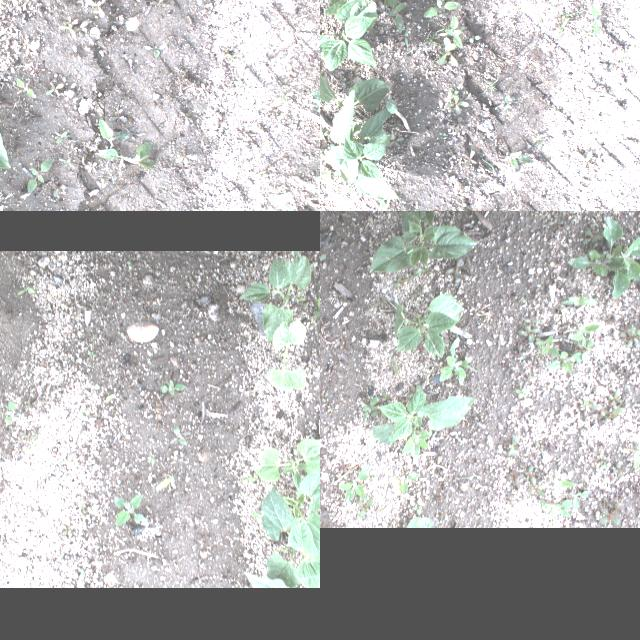crop: (324, 90, 404, 204), (242, 486, 320, 587), (238, 250, 310, 342), (372, 384, 476, 444), (368, 222, 476, 272), (393, 292, 461, 360), (320, 0, 377, 70), (281, 466, 320, 559), (253, 439, 320, 491), (320, 70, 388, 112), (267, 318, 305, 392), (391, 211, 457, 231), (323, 0, 387, 14), (406, 517, 434, 527)
weed: (565, 216, 640, 298), (94, 140, 160, 174), (438, 336, 476, 384), (95, 118, 142, 146), (295, 155, 320, 203), (52, 11, 94, 39), (403, 28, 445, 56), (290, 172, 320, 211), (114, 494, 148, 528), (339, 466, 369, 504), (401, 418, 429, 458), (26, 154, 52, 194), (274, 72, 302, 104), (540, 470, 574, 496), (12, 76, 38, 106), (498, 150, 534, 170), (507, 466, 538, 489), (546, 352, 580, 372), (174, 150, 202, 174), (474, 70, 498, 98), (540, 497, 570, 519), (443, 15, 462, 49), (560, 490, 592, 510), (422, 0, 459, 17), (140, 42, 168, 64), (570, 324, 598, 346), (385, 0, 403, 33), (437, 38, 458, 66), (190, 82, 214, 106), (557, 8, 585, 28), (42, 78, 68, 99), (176, 104, 197, 130), (224, 80, 258, 96), (389, 474, 416, 494), (534, 334, 558, 356), (250, 167, 276, 187), (442, 95, 468, 115), (46, 177, 68, 200), (3, 400, 24, 424), (82, 0, 108, 19), (218, 48, 240, 70), (598, 504, 620, 526), (621, 323, 640, 347), (160, 380, 188, 396), (50, 128, 70, 150), (57, 152, 77, 174), (64, 45, 86, 65), (572, 152, 594, 172), (481, 159, 507, 175), (517, 325, 539, 343), (590, 4, 602, 36), (362, 397, 378, 421), (110, 108, 132, 125), (530, 131, 550, 149), (445, 258, 463, 278), (582, 228, 604, 244), (356, 498, 372, 518), (577, 340, 593, 360), (527, 478, 543, 497), (153, 476, 174, 490), (84, 157, 100, 175), (302, 50, 320, 66), (496, 95, 514, 111), (386, 132, 404, 148), (560, 297, 596, 305), (64, 143, 84, 157), (585, 27, 599, 47), (311, 293, 320, 324), (588, 402, 604, 418), (174, 425, 186, 445), (603, 408, 623, 420), (608, 390, 622, 406), (378, 198, 395, 211), (508, 435, 518, 457), (93, 178, 111, 190), (464, 150, 476, 168), (216, 114, 228, 130), (451, 117, 463, 133), (612, 462, 624, 478), (633, 444, 640, 470), (143, 0, 164, 8), (384, 0, 402, 9), (523, 317, 539, 327), (320, 128, 328, 147), (16, 286, 34, 294), (413, 268, 431, 276), (557, 22, 567, 36), (548, 218, 562, 228), (0, 46, 8, 62), (0, 13, 8, 29), (314, 37, 320, 57), (78, 568, 84, 588), (77, 408, 87, 420), (394, 278, 406, 288), (454, 272, 466, 282), (516, 388, 528, 398), (467, 35, 481, 43), (372, 298, 386, 306), (447, 89, 459, 98), (380, 392, 390, 402), (438, 509, 448, 519), (582, 399, 592, 409), (320, 149, 327, 163), (322, 167, 334, 175), (391, 358, 397, 374), (510, 498, 526, 504), (534, 442, 542, 454), (596, 449, 604, 461), (94, 206, 113, 211), (320, 170, 329, 180), (404, 27, 408, 48), (413, 504, 421, 514), (588, 242, 598, 250), (370, 471, 378, 481), (320, 144, 325, 159), (322, 143, 334, 149), (508, 351, 520, 357), (324, 126, 331, 136), (320, 252, 325, 265), (320, 392, 326, 402), (600, 462, 610, 468), (631, 44, 639, 50), (520, 352, 526, 358), (438, 132, 446, 136), (438, 10, 442, 16), (558, 460, 562, 464)
